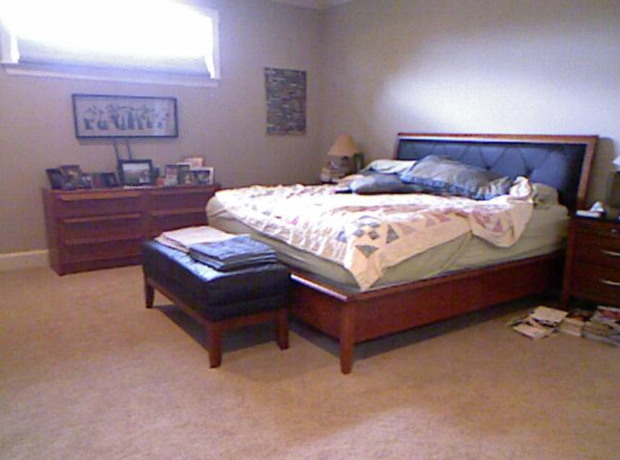cabinet: (43, 186, 137, 267)
cabinetDoor: (64, 217, 137, 236), (63, 196, 135, 212), (69, 242, 137, 257), (151, 193, 204, 209), (151, 214, 202, 224)
couch: (138, 239, 289, 351)
window: (9, 14, 210, 58)
